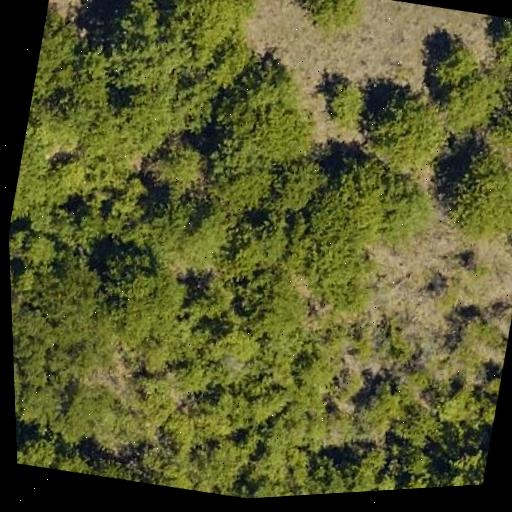tree-top: (5, 121, 160, 256), (205, 36, 341, 176), (296, 145, 440, 265), (22, 0, 127, 143), (83, 238, 195, 359), (10, 274, 90, 430), (132, 188, 243, 285), (417, 33, 512, 141), (358, 78, 456, 182), (224, 253, 322, 354), (116, 54, 217, 150), (98, 0, 189, 98), (435, 139, 512, 250), (152, 0, 262, 73), (194, 146, 278, 223), (328, 434, 426, 494), (217, 208, 291, 284), (50, 373, 120, 447), (142, 133, 212, 204), (194, 428, 252, 497), (266, 156, 323, 223), (420, 435, 490, 488), (351, 368, 404, 436), (319, 75, 375, 134), (296, 0, 371, 44), (477, 14, 512, 93), (16, 421, 65, 471), (17, 225, 62, 273), (500, 180, 512, 279), (501, 80, 512, 150)
